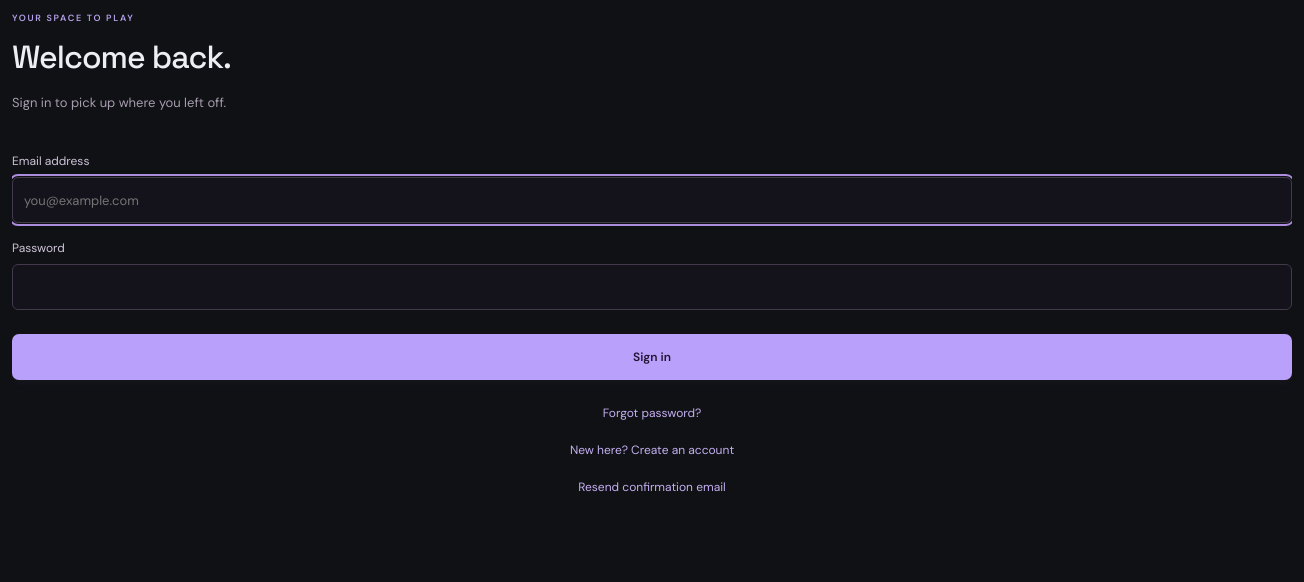
Test: account forms › signs in and surfaces rejected credentials
The image size is (1304, 582).
Step 1. Type "player@example.com" into the field labelled "Email address" → (652, 200), box [12,177,1292,223]
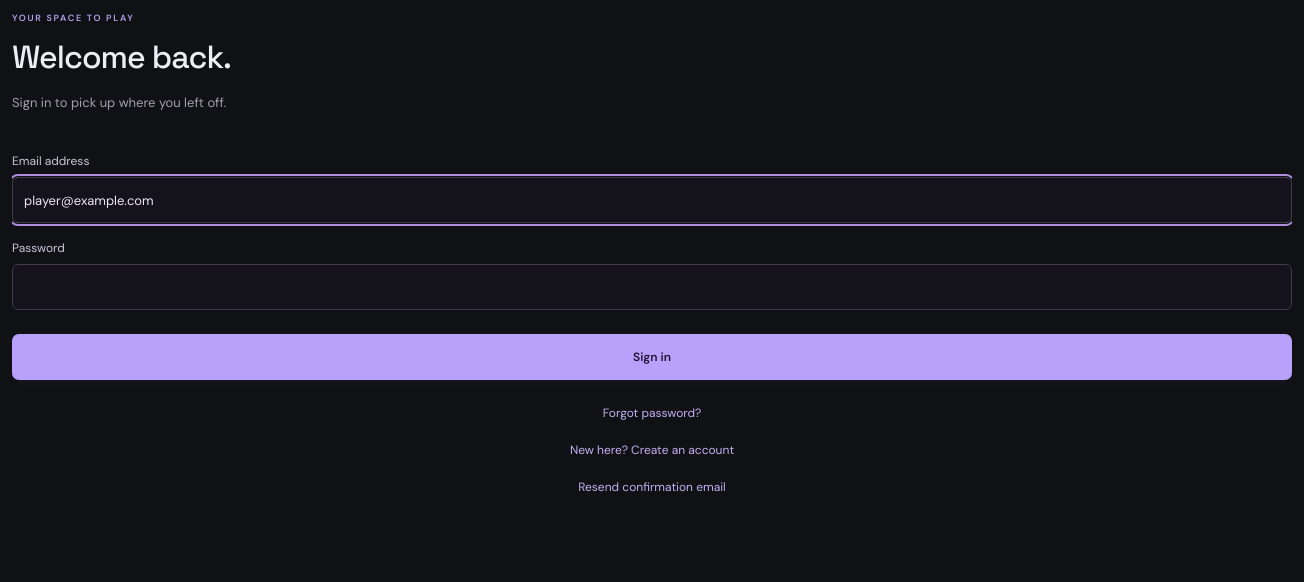
Step 2. Type "a secure password" into the password field labelled "Password" → (652, 287), box [12,264,1292,310]
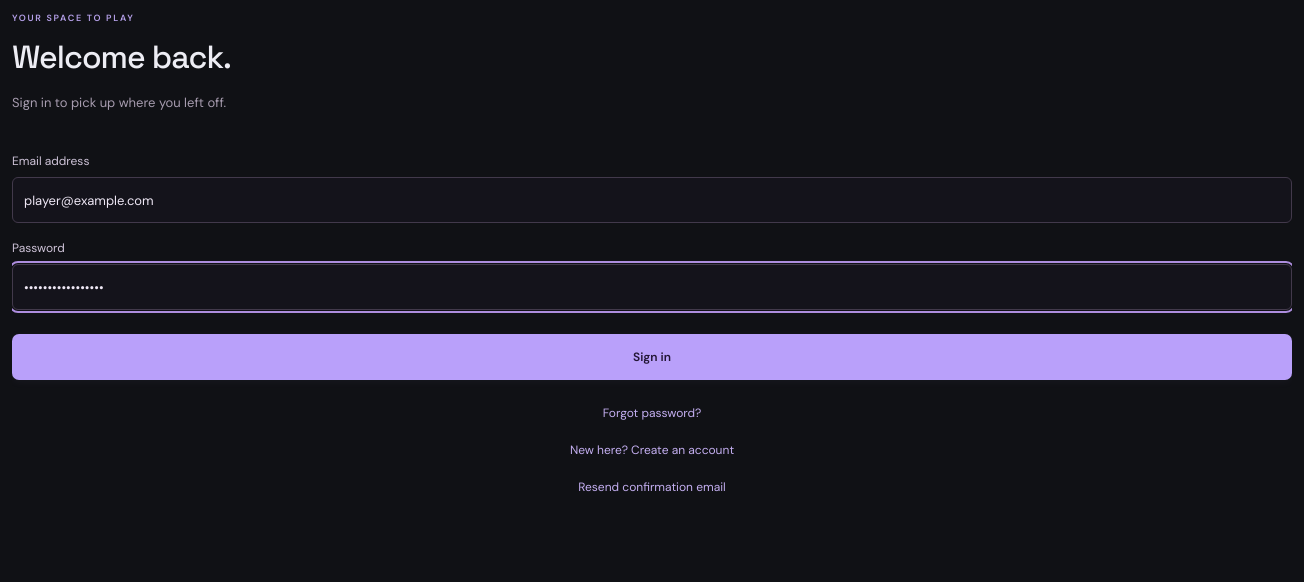
Step 3. Click the button "Sign in" → (652, 357), box [12,334,1292,380]
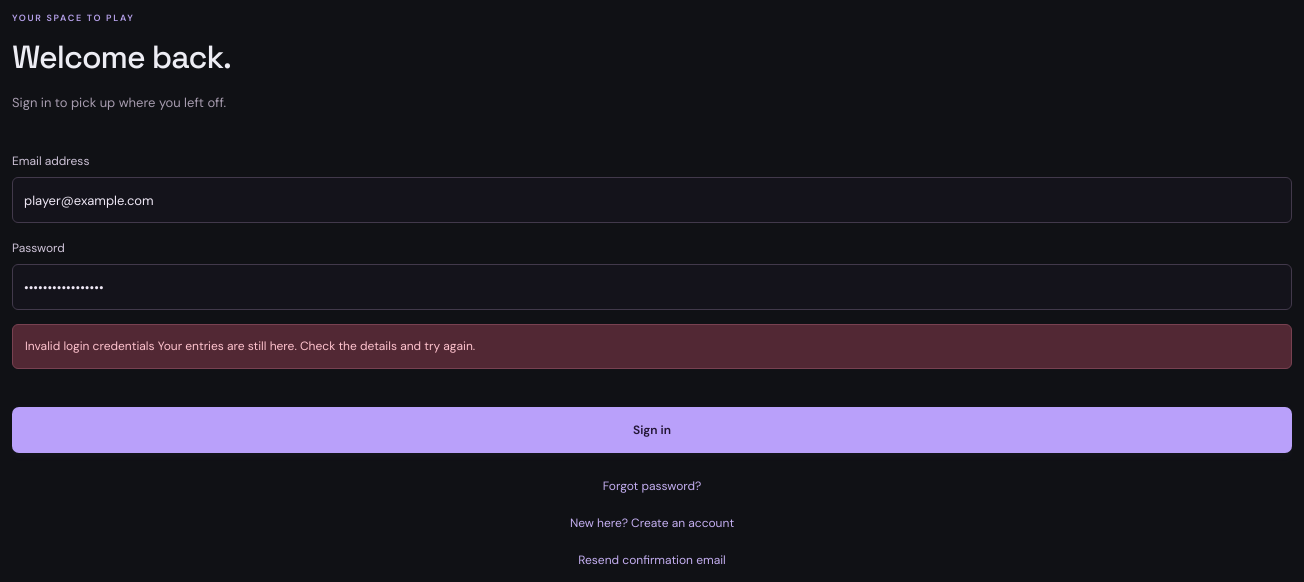
Now the message shows "Invalid login credentials", box [25,338,475,354]
